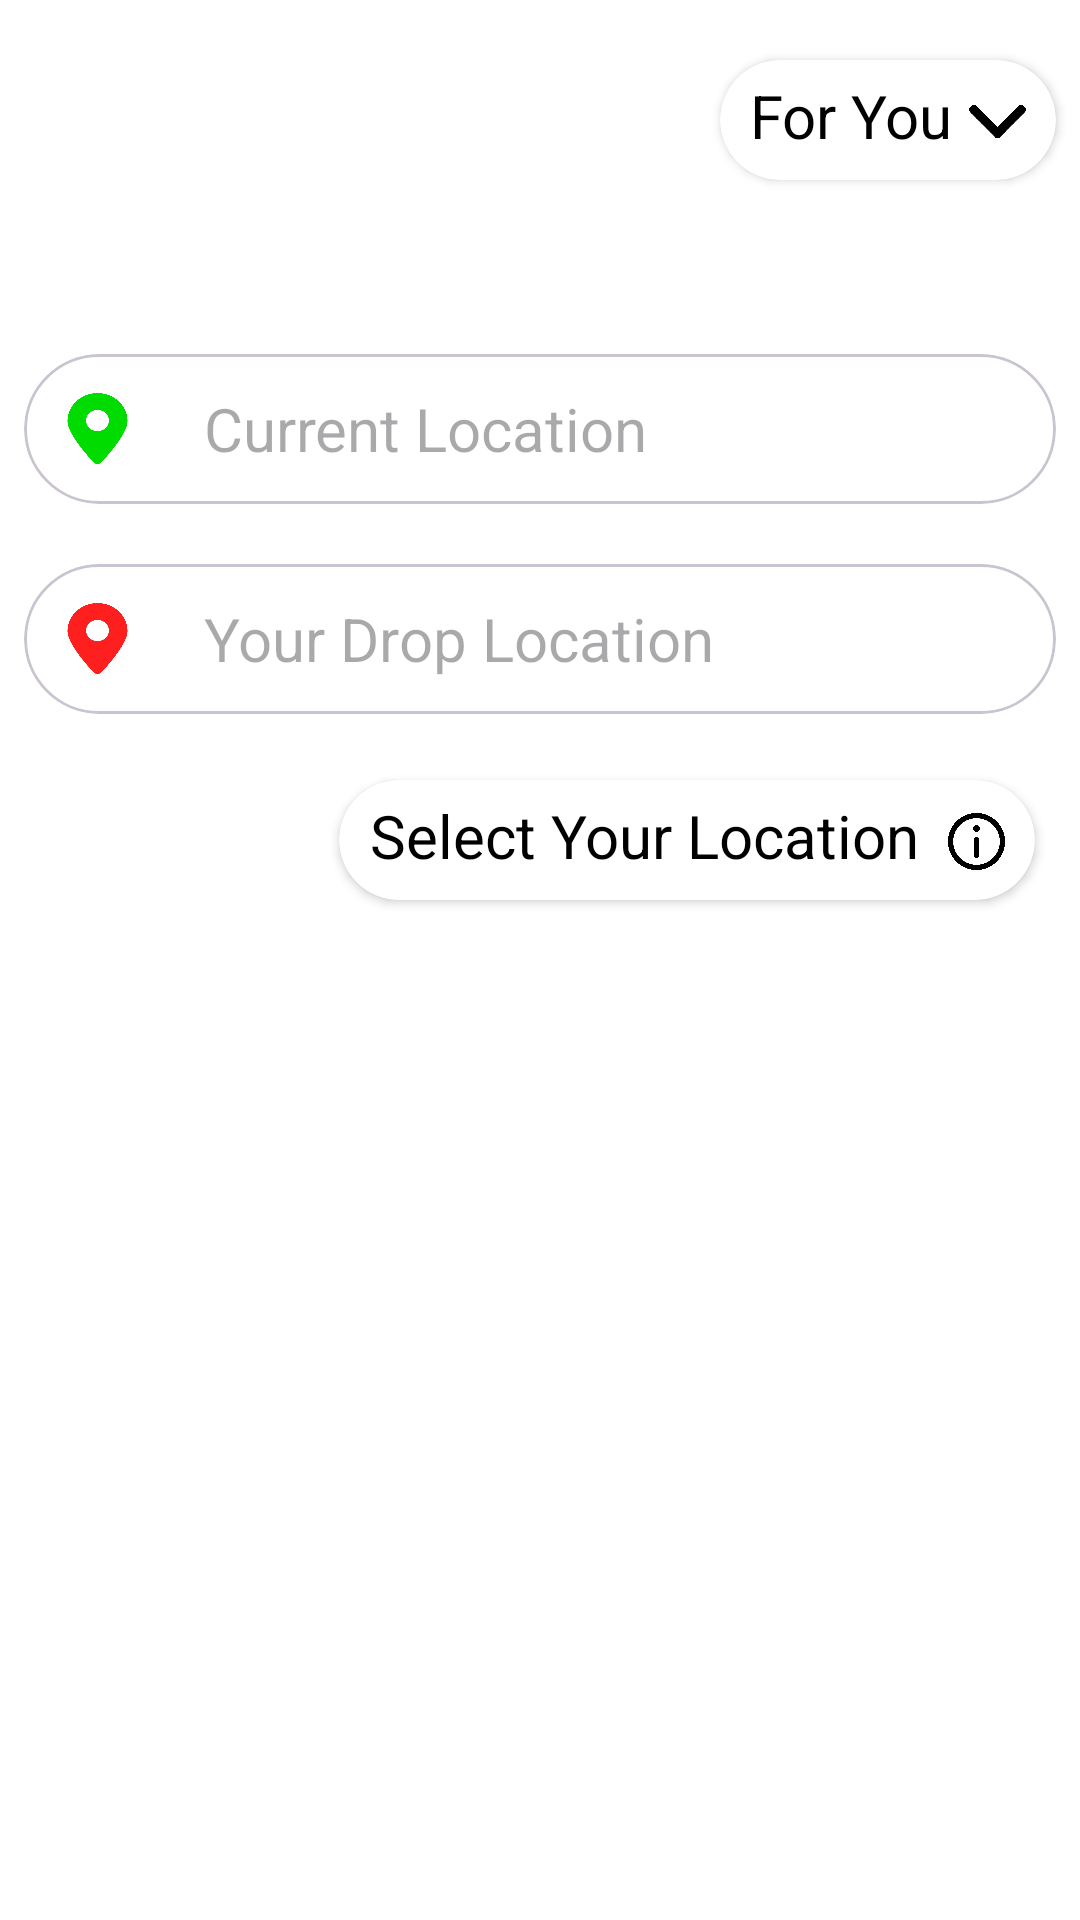

Point at icon controls on the screen. Image size 1080×1920, points as point (x, y).
arroww: point (997, 121)
greenlocation: point (97, 428)
redlocation: point (97, 638)
